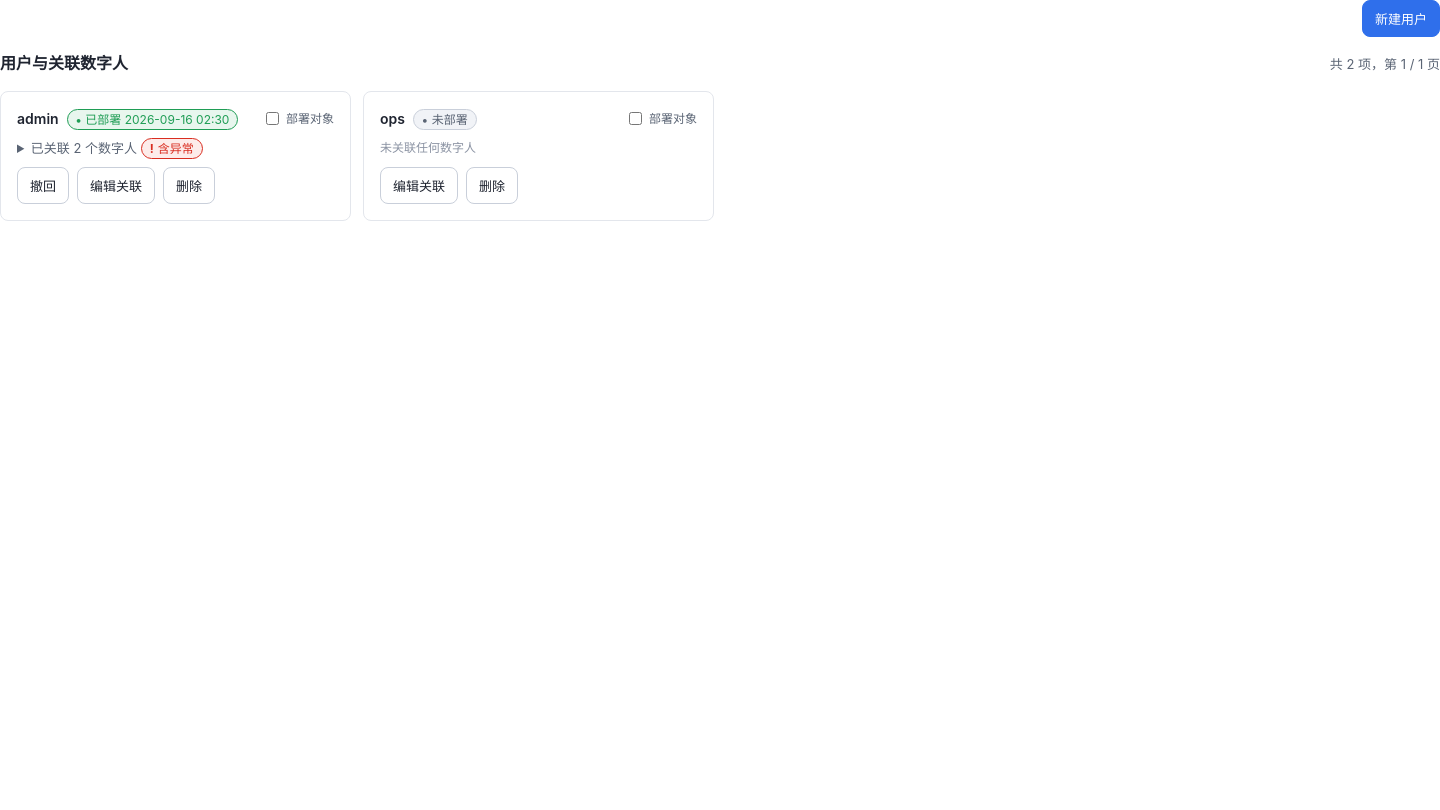
Test: UserCardList › 删除需二次确认，且说明"撤回数字人、保留文件空间"（2026-10-20）
Click the button "删除" below "已关联 2 个数字人": (189, 186) [163,167,215,204]
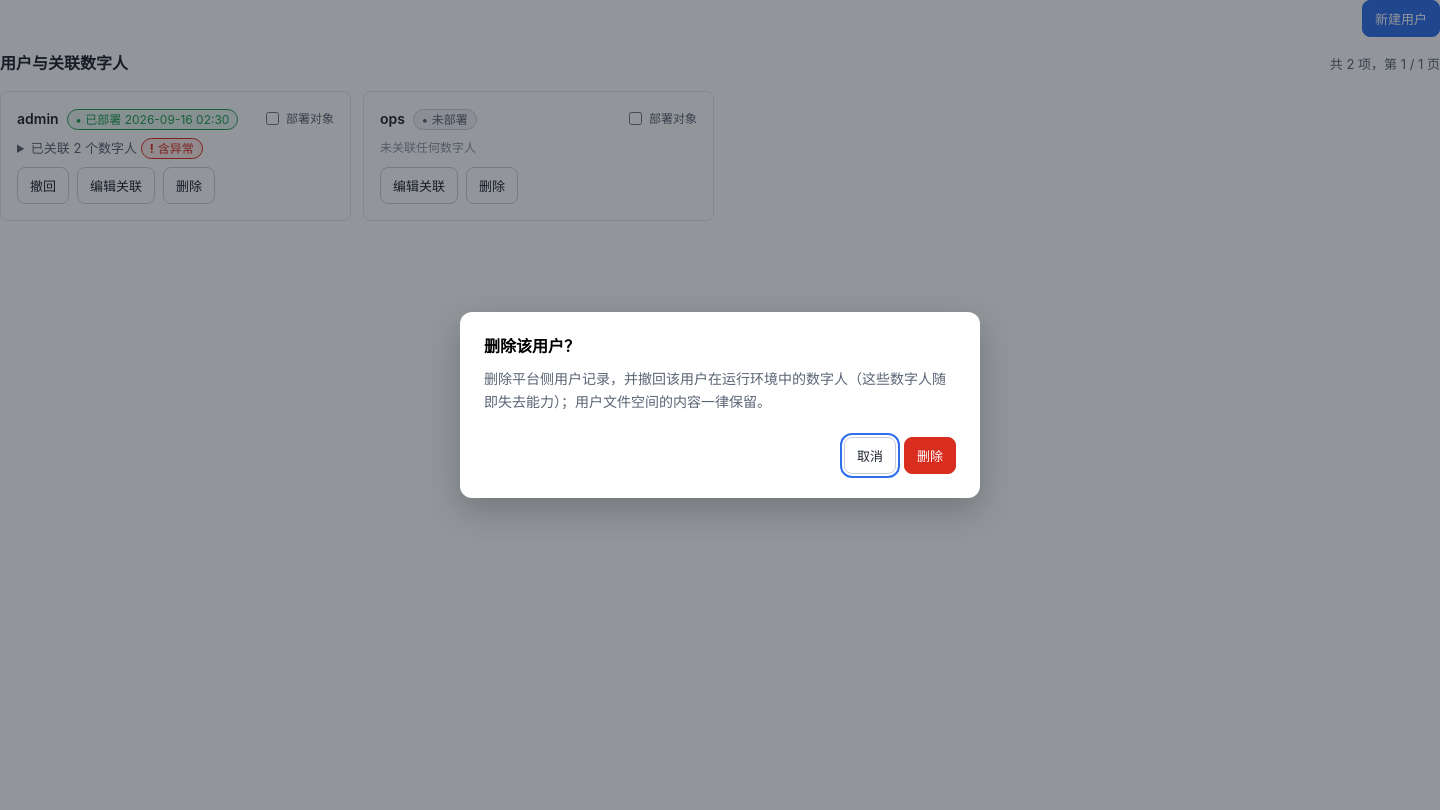
Check: the dialog shows "撤回该用户在运行环境中的数字人", box [484,370,946,410]
Check: the dialog shows "文件空间的内容一律保留", box [484,370,946,410]
